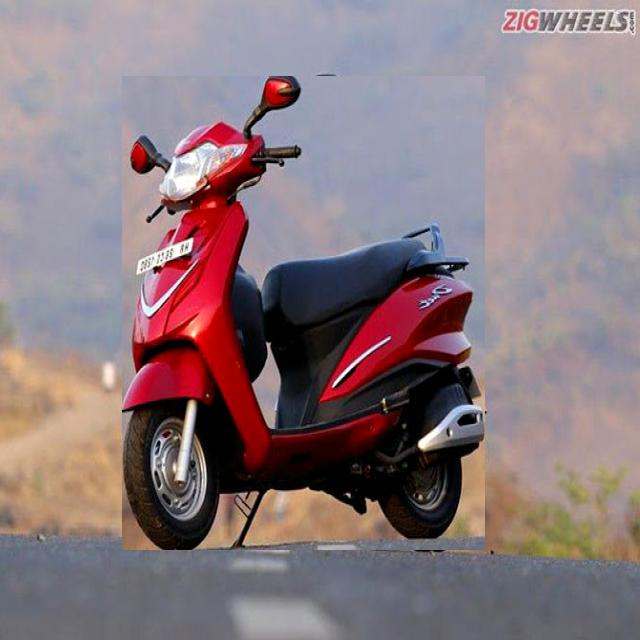motorcycle: (122, 76, 485, 550)
